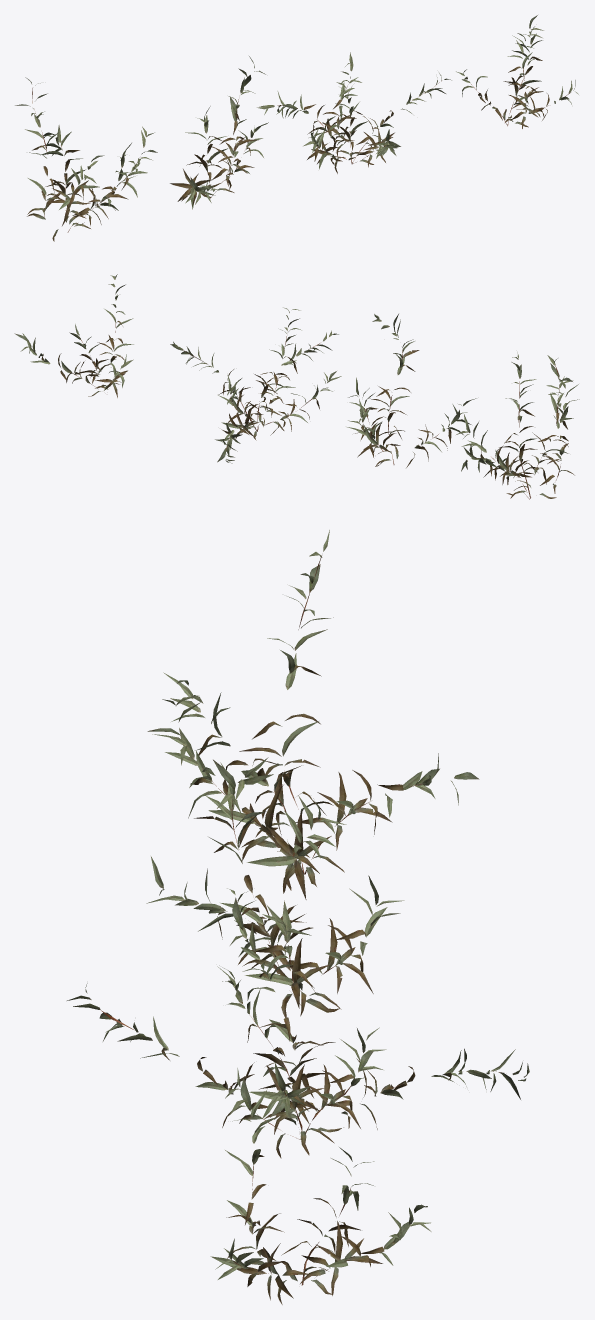
Rendered from shrub_02.glb.
3 views of the same model, one above another, from view 1: azimuth 30°, elevation 25°; view 2: azimuth 150°, elevation 25°; view 3: azimuth 270°, elevation 25° (orthographic). The views are drawn at different scales.
Visible parts, largest first — view 1: shrub_02_c, shrub_02_a, shrub_02_b, shrub_02_d; view 2: shrub_02_a, shrub_02_c, shrub_02_b, shrub_02_d; view 3: shrub_02_a, shrub_02_c, shrub_02_b, shrub_02_d.
Boxes of the visible parts, <box> form: shrub_02_c: <box>257,52,451,173</box>; shrub_02_a: <box>15,77,157,241</box>; shrub_02_b: <box>170,56,268,209</box>; shrub_02_d: <box>456,15,578,128</box>; shrub_02_a: <box>456,352,579,499</box>; shrub_02_c: <box>170,307,341,463</box>; shrub_02_b: <box>347,314,476,467</box>; shrub_02_d: <box>14,274,133,397</box>; shrub_02_a: <box>147,530,479,899</box>; shrub_02_c: <box>67,888,529,1158</box>; shrub_02_b: <box>146,757,404,1017</box>; shrub_02_d: <box>210,1068,431,1304</box>.
Bounding box in the file's own units: 6.05 × 1.7 × 2.28.
Materials: 1 (1 with a texture image).
